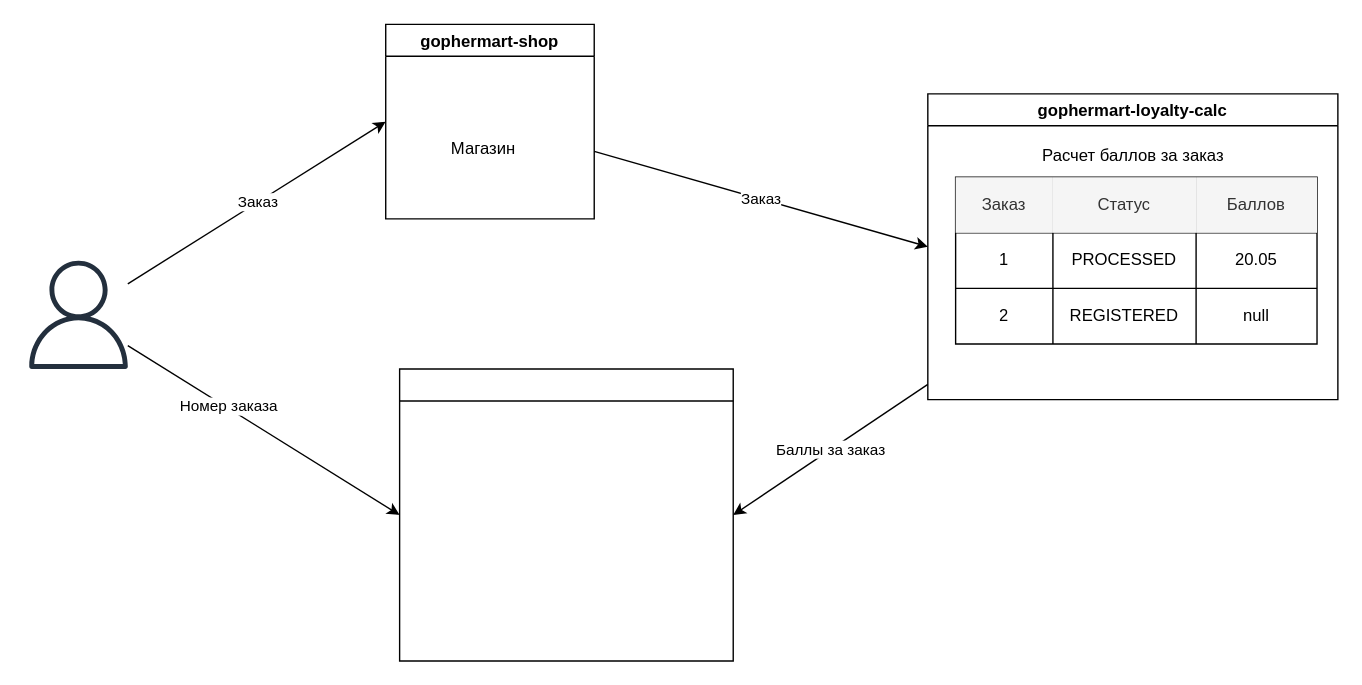
This 1362x685 diagram has some shape labels left out. Each missing label, with the centre of its shape:
"gophermart-loyalty-api" belongs at point (565, 514).
"Пользователь" belongs at point (78, 314).
